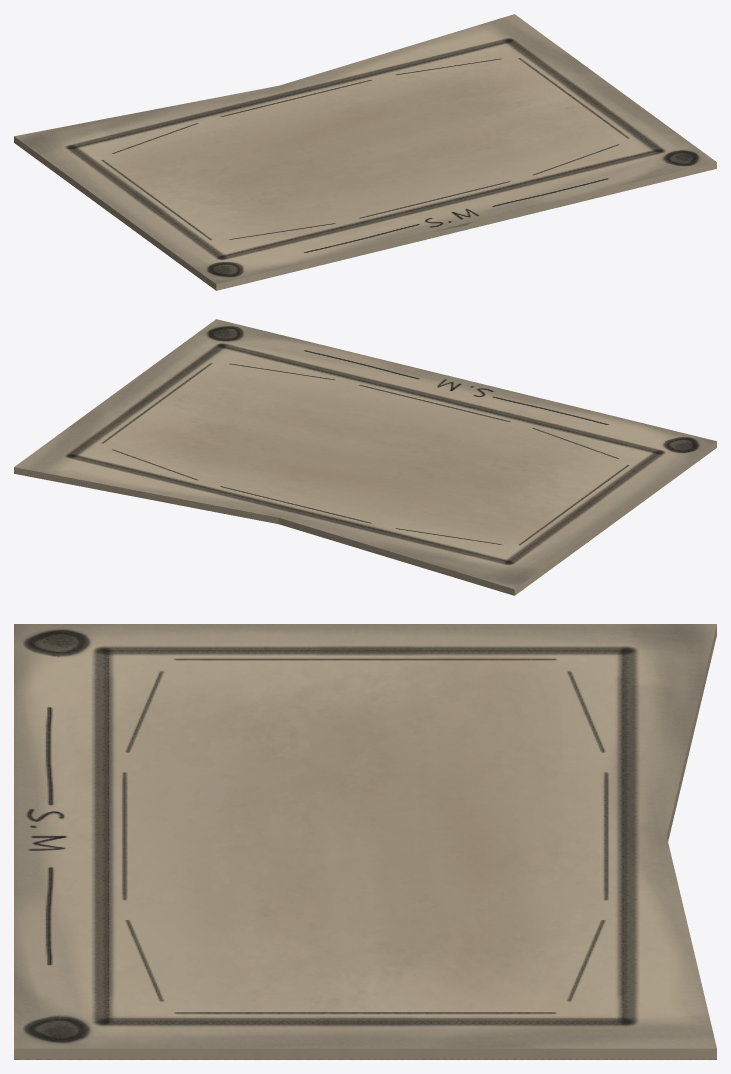
Rendered from Flashcard.gltf.
The picture shows the model from 3 angles, top to bottom: view 1: azimuth 30°, elevation 25°; view 2: azimuth 150°, elevation 25°; view 3: azimuth 270°, elevation 25°; orthographic projection. The views are drawn at different scales.
Parts seen in each view (by area): view 1: Flashcard; view 2: Flashcard; view 3: Flashcard.
Part boxes in pixels (x1,y1,x2,y2): Flashcard: [14, 14, 716, 290]; Flashcard: [14, 319, 716, 595]; Flashcard: [14, 624, 716, 1059].
Bounding box in the file's own units: 0.4 × 0.005 × 0.28.
1 material, 1 textured.
